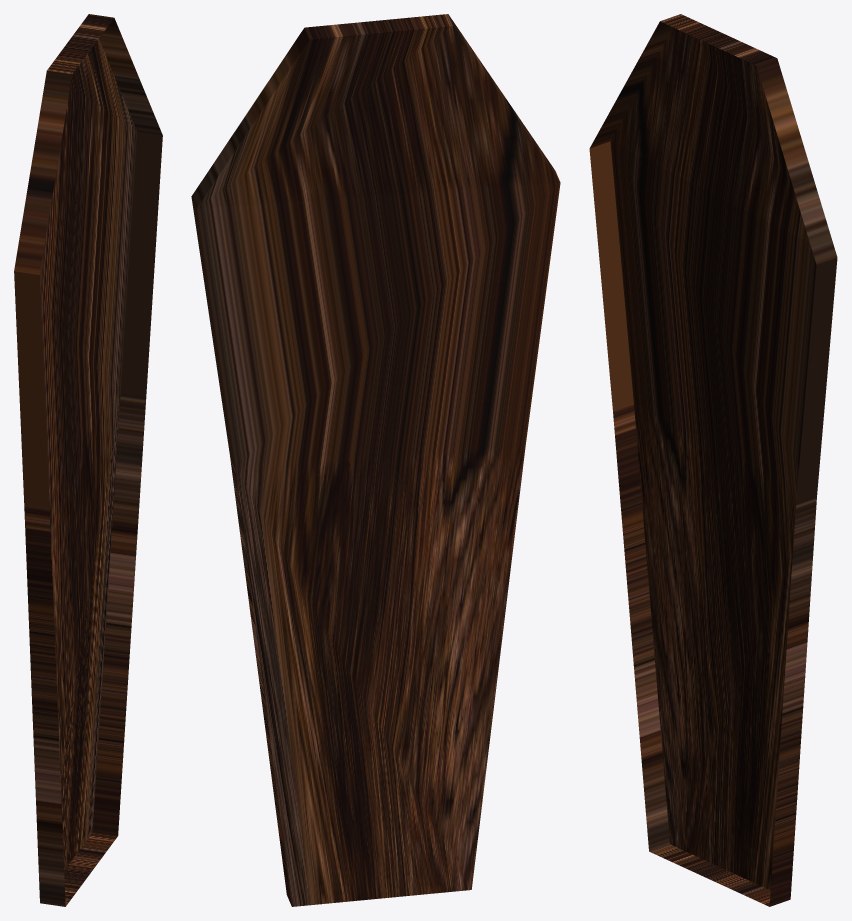
File: Coffin_Lid_PeekNo .glb
The picture shows the model from 3 angles, left to right: view 1: azimuth 30°, elevation 25°; view 2: azimuth 150°, elevation 25°; view 3: azimuth 270°, elevation 25°; orthographic projection. The views are drawn at different scales.
Visible parts, largest first — view 1: Coffin_Lid_NoPeek; view 2: Coffin_Lid_NoPeek; view 3: Coffin_Lid_NoPeek.
Boxes of the visible parts, <box> form: Coffin_Lid_NoPeek: <box>14,14,162,906</box>; Coffin_Lid_NoPeek: <box>191,14,560,906</box>; Coffin_Lid_NoPeek: <box>589,14,837,906</box>.
Bounding box in the file's own units: 1.65 × 5.18 × 1.39.
Materials: 1 (1 with a texture image).
